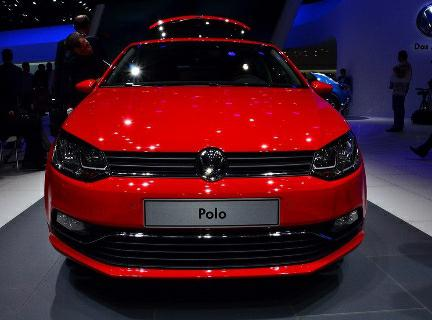大众-CC: (38, 13, 373, 300)
